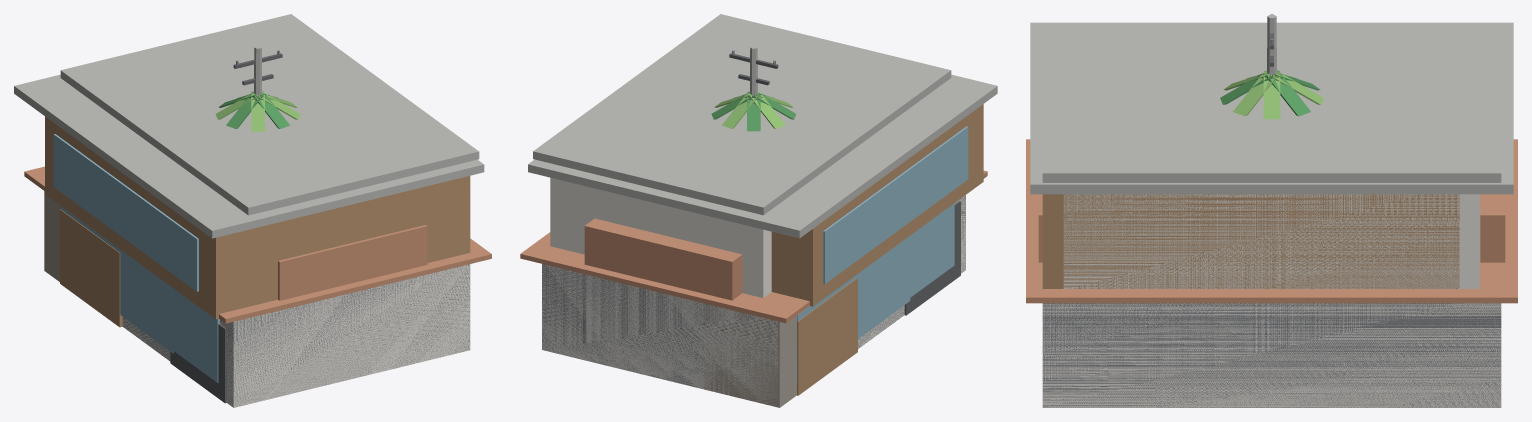
The model's file is Props_Exterior.fbx.
The picture shows the model from 3 angles, left to right: view 1: azimuth 30°, elevation 25°; view 2: azimuth 150°, elevation 25°; view 3: azimuth 270°, elevation 25°; orthographic projection. The views are drawn at different scales.
Visible parts, largest first — view 1: SM_Prop_Casa_Fundo_1, SM_Prop_Casa_Fundo_3, SM_Prop_Casa_Fundo_2, SM_Prop_Coqueiro, SM_Prop_Poste_Concreto; view 2: SM_Prop_Casa_Fundo_3, SM_Prop_Casa_Fundo_1, SM_Prop_Casa_Fundo_2, SM_Prop_Coqueiro, SM_Prop_Poste_Concreto; view 3: SM_Prop_Casa_Fundo_3, SM_Prop_Casa_Fundo_1, SM_Prop_Casa_Fundo_2, SM_Prop_Coqueiro, SM_Prop_Poste_Concreto.
Boxes of the visible parts, box(x1,y1,x2,y2) form: SM_Prop_Casa_Fundo_1: box(14, 74, 484, 407); SM_Prop_Casa_Fundo_3: box(60, 14, 479, 407); SM_Prop_Casa_Fundo_2: box(24, 166, 491, 401); SM_Prop_Coqueiro: box(215, 91, 300, 131); SM_Prop_Poste_Concreto: box(233, 46, 282, 95); SM_Prop_Casa_Fundo_3: box(533, 14, 965, 395); SM_Prop_Casa_Fundo_1: box(528, 74, 997, 406); SM_Prop_Casa_Fundo_2: box(520, 170, 987, 407); SM_Prop_Coqueiro: box(711, 91, 796, 131); SM_Prop_Poste_Concreto: box(729, 45, 778, 95); SM_Prop_Casa_Fundo_3: box(1042, 36, 1501, 407); SM_Prop_Casa_Fundo_1: box(1030, 22, 1513, 407); SM_Prop_Casa_Fundo_2: box(1026, 139, 1517, 303); SM_Prop_Coqueiro: box(1220, 70, 1323, 119); SM_Prop_Poste_Concreto: box(1267, 14, 1276, 74).
Size of the model in its own units: 9.4 by 8.65 by 11.8.
